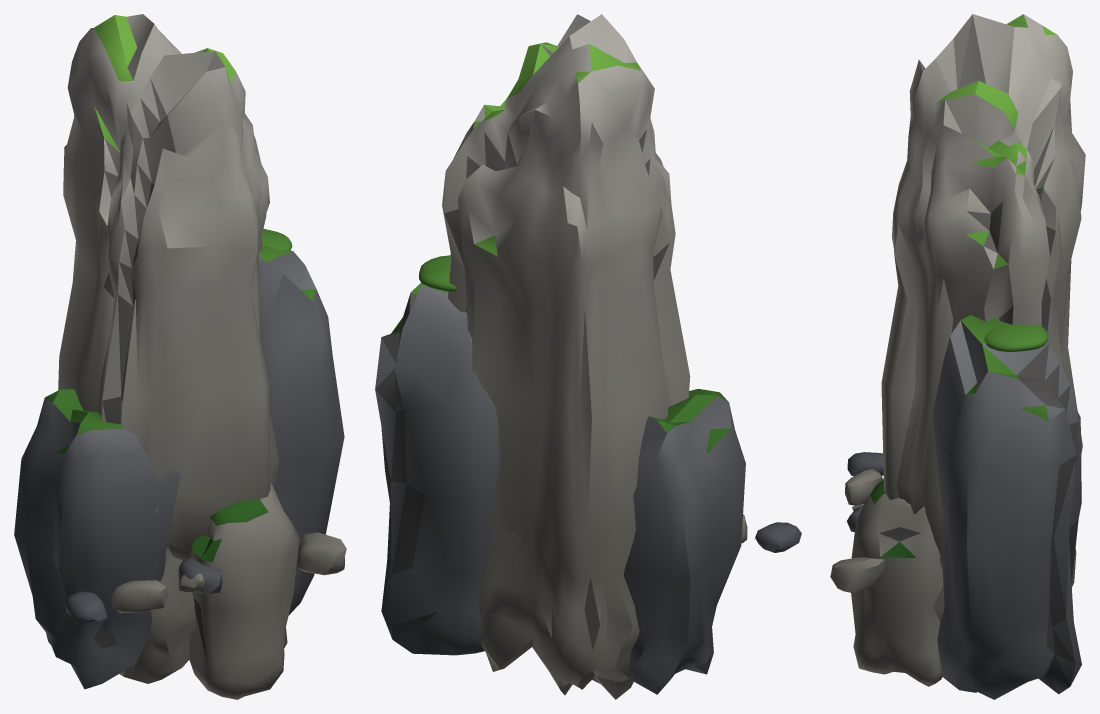
The model's file is Cliff_C.fbx.
The picture shows the model from 3 angles, left to right: view 1: azimuth 30°, elevation 25°; view 2: azimuth 150°, elevation 25°; view 3: azimuth 270°, elevation 25°; orthographic projection. The views are drawn at different scales.
Visible parts, largest first — view 1: Cliff_C_LOD0; view 2: Cliff_C_LOD0; view 3: Cliff_C_LOD0.
Part boxes in pixels (x1,y1,x2,y2): Cliff_C_LOD0: (14,14,346,699); Cliff_C_LOD0: (375,14,801,699); Cliff_C_LOD0: (830,14,1085,699).
Size of what is drawn, in the model's own units: 10.89 by 21 by 7.57.
Materials: 1 (1 with a texture image).
